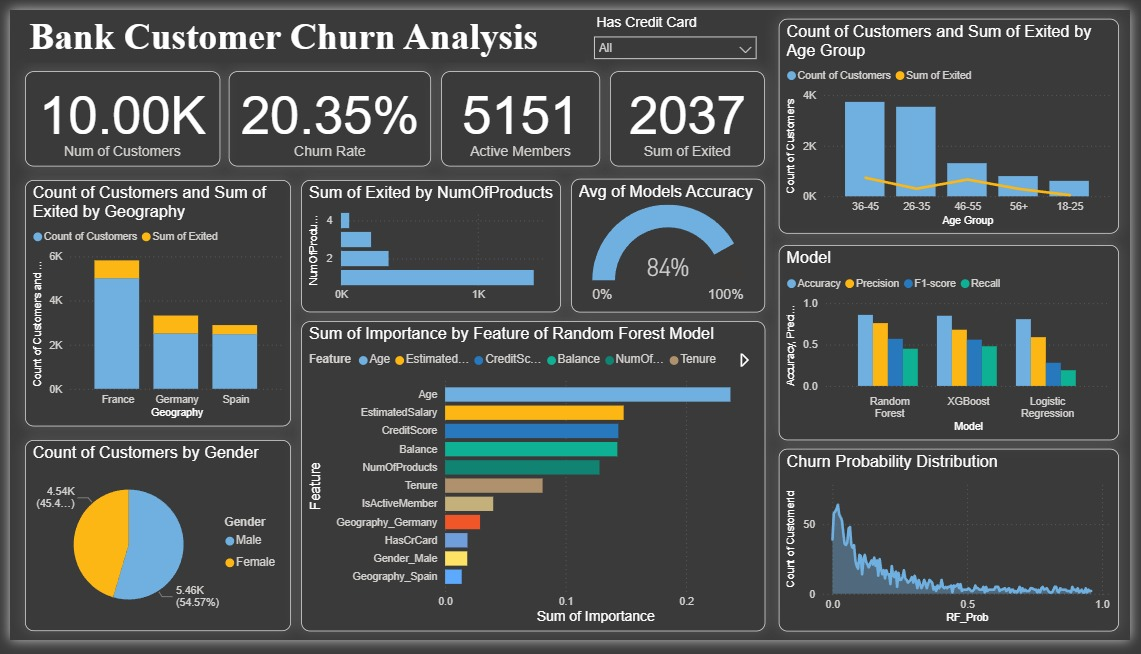

Layout of this report page (visuals, bound fields, positions):
{"tool":"powerbi","page":{"name":"Page 1","canvas":[1280,720],"ordinal":0},"visuals":[{"type":"columnChart","fields":{"Category":["Churn_Modelling.Geography"],"Y":["CountNonNull(Churn_Modelling.CustomerId)","Sum(Churn_Modelling.Exited)"]},"box":[17.1,194.3,304.3,281.4],"z":0},{"type":"pieChart","fields":{"Category":["Churn_Modelling.Gender"],"Y":["CountNonNull(Churn_Modelling.CustomerId)"]},"box":[17.1,491.4,304.3,218.6],"z":1000},{"type":"card","fields":{"Values":["Measures_table.Churn Rate"]},"box":[250,70,231.4,108.6],"z":2000},{"type":"lineStackedColumnComboChart","title":"Count of Customers and Sum of Exited by Age Group","fields":{"Y":["CountNonNull(Churn_Modelling.CustomerId)"],"Y2":["Sum(Churn_Modelling.Exited)"],"Category":["Churn_Modelling.Age Group"]},"box":[878.6,10,388.6,245.7],"z":3000},{"type":"barChart","title":"Sum of Importance by Feature of Random Forest Model","fields":{"Category":["rf_feature_importance.Feature"],"Y":["Sum(rf_feature_importance.Importance)"],"Series":["rf_feature_importance.Feature"]},"box":[332.9,355.7,530,354.3],"z":4000},{"type":"stackedAreaChart","title":"Churn Probability Distribution","fields":{"Category":["churn_predictions.RF_Prob"],"Y":["CountNonNull(churn_predictions.CustomerId)"]},"box":[878.6,501.4,388.6,208.6],"z":5000},{"type":"clusteredBarChart","fields":{"Category":["Churn_Modelling.NumOfProducts"],"Y":["Sum(Churn_Modelling.Exited)"]},"box":[332.9,194.3,297.1,151.4],"z":6000},{"type":"slicer","fields":{"Values":["Churn_Modelling.HasCrCard"]},"box":[657.1,0,205.7,72.9],"z":7000},{"type":"clusteredColumnChart","title":"Model","fields":{"Category":["Model Metrics.Model"],"Y":["Avg(Model Metrics.Accuracy)","Avg(Model Metrics.Precision)","Avg(Model Metrics.F1-score)","Avg(Model Metrics.Recall)"]},"box":[878.6,268.6,388.6,222.9],"z":8000},{"type":"gauge","fields":{"Y":["Avg(Model Metrics.Accuracy)1"]},"box":[641.4,192.9,221.4,152.9],"z":9000},{"type":"card","fields":{"Values":["CountNonNull(Churn_Modelling.CustomerId)"]},"box":[17.1,70,222.9,108.6],"z":10000},{"type":"card","fields":{"Values":["Sum(Churn_Modelling.IsActiveMember)"]},"box":[492.9,70,181.4,108.6],"z":11000},{"type":"card","fields":{"Values":["Sum(Churn_Modelling.Exited)"]},"box":[685.7,70,177.1,108.6],"z":12000},{"type":"textbox","box":[17.1,0,640,60],"z":13000}]}

Visuals, with their boxes in screenshot pixels (x1, y1, x2, y2), scaled from the page's 1280x720 canvas onto the 1141x654 screenshot:
columnChart - Churn_Modelling.Geography x CountNonNull(Churn_Modelling.CustomerId): bbox(15, 176, 286, 432)
pieChart - Churn_Modelling.Gender x CountNonNull(Churn_Modelling.CustomerId): bbox(15, 446, 286, 645)
card - Measures_table.Churn Rate: bbox(223, 64, 429, 162)
"Count of Customers and Sum of Exited by Age Group" lineStackedColumnComboChart: bbox(783, 9, 1130, 232)
"Sum of Importance by Feature of Random Forest Model" barChart: bbox(297, 323, 769, 645)
"Churn Probability Distribution" stackedAreaChart: bbox(783, 455, 1130, 645)
clusteredBarChart - Churn_Modelling.NumOfProducts x Sum(Churn_Modelling.Exited): bbox(297, 176, 562, 314)
slicer - Churn_Modelling.HasCrCard: bbox(586, 0, 769, 66)
"Model" clusteredColumnChart: bbox(783, 244, 1130, 446)
gauge - Avg(Model Metrics.Accuracy)1: bbox(572, 175, 769, 314)
card - CountNonNull(Churn_Modelling.CustomerId): bbox(15, 64, 214, 162)
card - Sum(Churn_Modelling.IsActiveMember): bbox(439, 64, 601, 162)
card - Sum(Churn_Modelling.Exited): bbox(611, 64, 769, 162)
textbox: bbox(15, 0, 586, 54)
